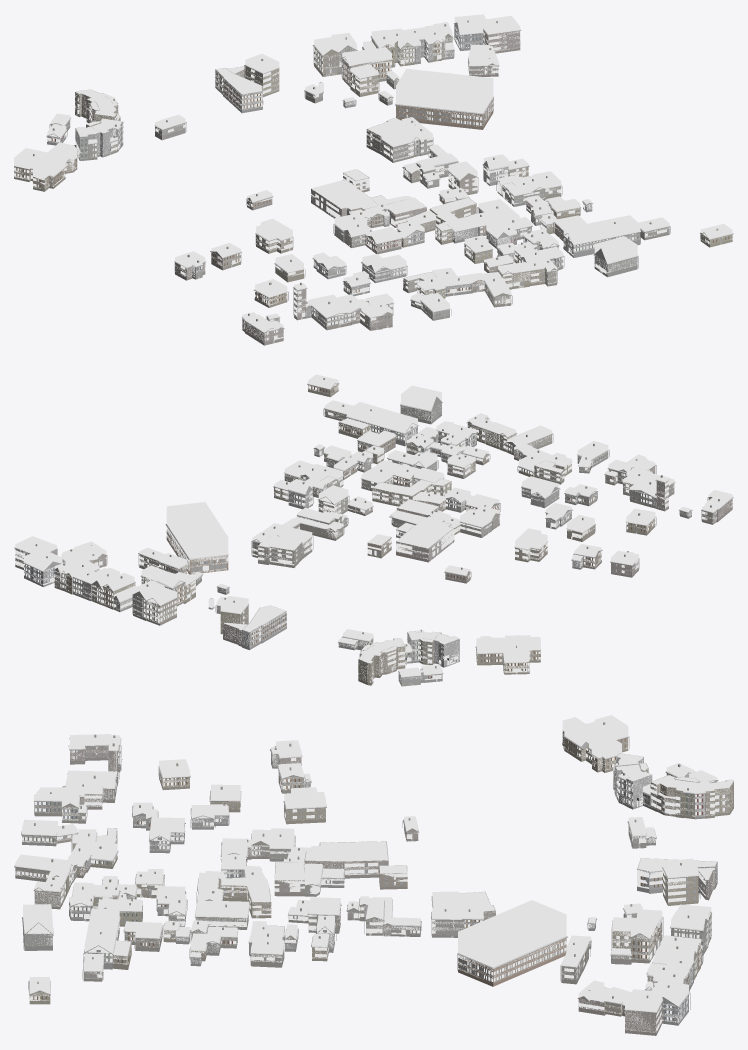
3 renders of one model, top to bottom at view 1: azimuth 30°, elevation 25°; view 2: azimuth 150°, elevation 25°; view 3: azimuth 270°, elevation 25°, orthographic. The views are drawn at different scales.
Visible parts, largest first — view 1: col, bld; view 2: col, bld; view 3: col, bld.
Part boxes in pixels (<box>): col: <box>14,14,732,342</box>; bld: <box>14,20,733,345</box>; col: <box>15,374,732,685</box>; bld: <box>14,378,733,686</box>; col: <box>15,715,733,1032</box>; bld: <box>14,722,733,1035</box>.
Size of the model in its own units: 267 by 18.69 by 274.
